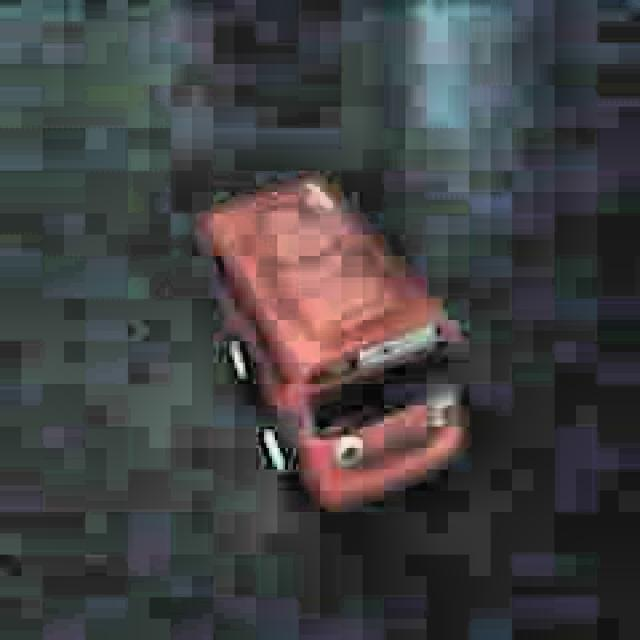bus: (178, 157, 475, 529)
